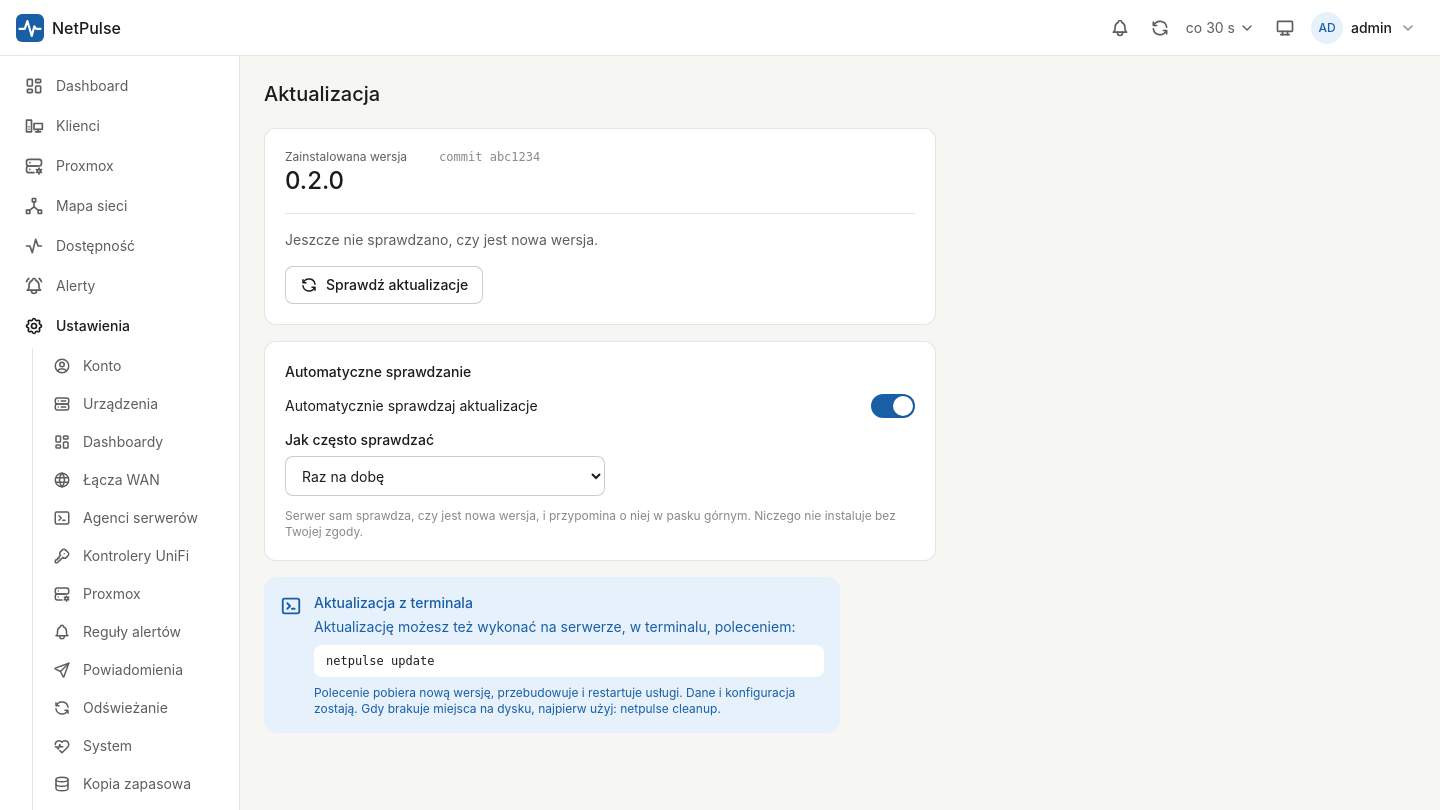
Test: sprawdzanie aktualizacji › pokazuje, że masz najnowszą wersję
Expected: the heading "Aktualizacja" is shown, [264,80,380,108]
Click the button "Sprawdź aktualizacje" at (384, 285), box [285,266,483,304]
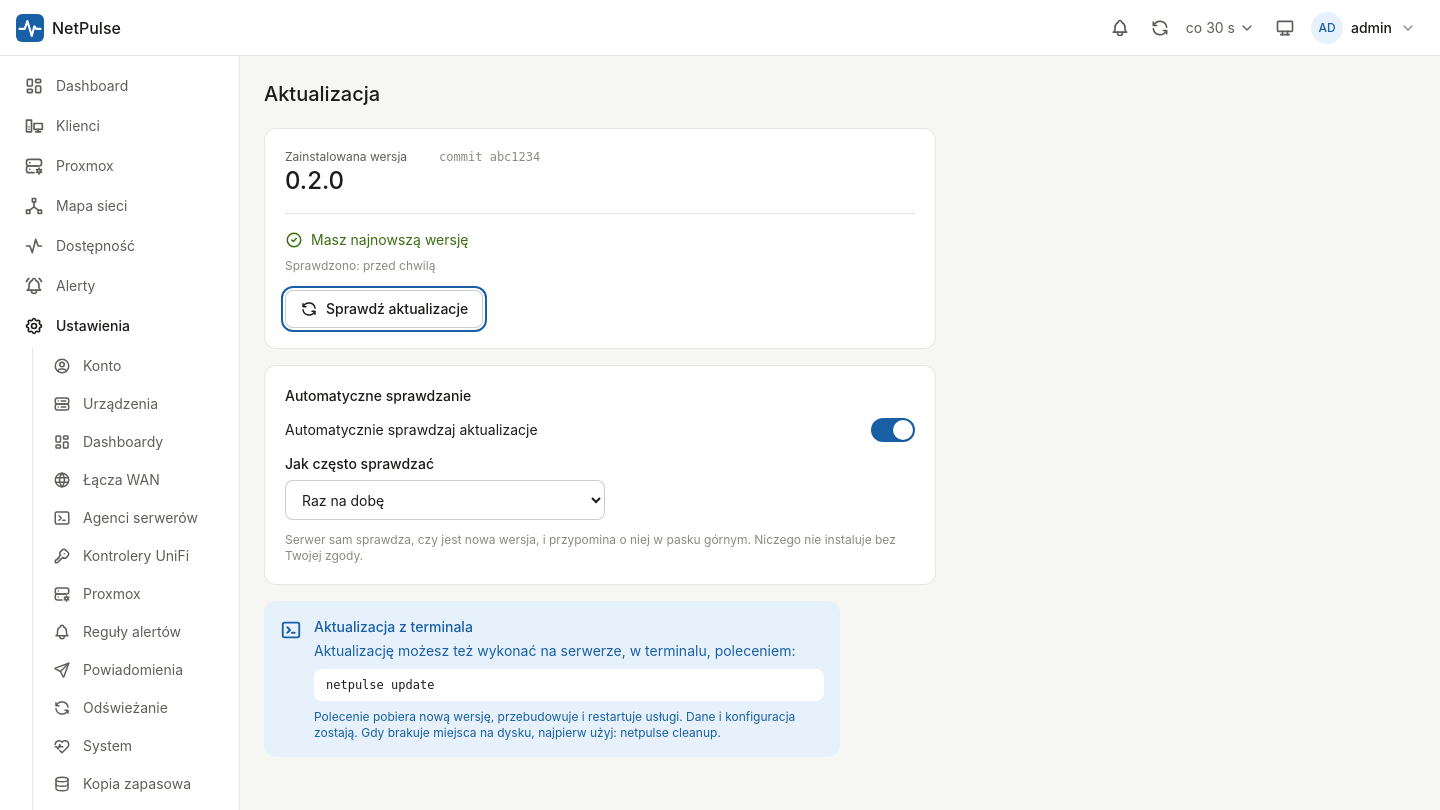
Now the text "Masz najnowszą wersję" is shown, box [285,231,468,249]
Now the text "Sprawdzono: przed chwilą" is shown, box [285,258,435,273]
